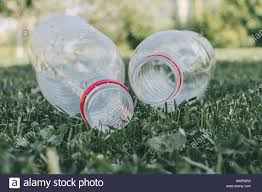plastic_bottle: (29, 14, 135, 136), (126, 28, 216, 115)
